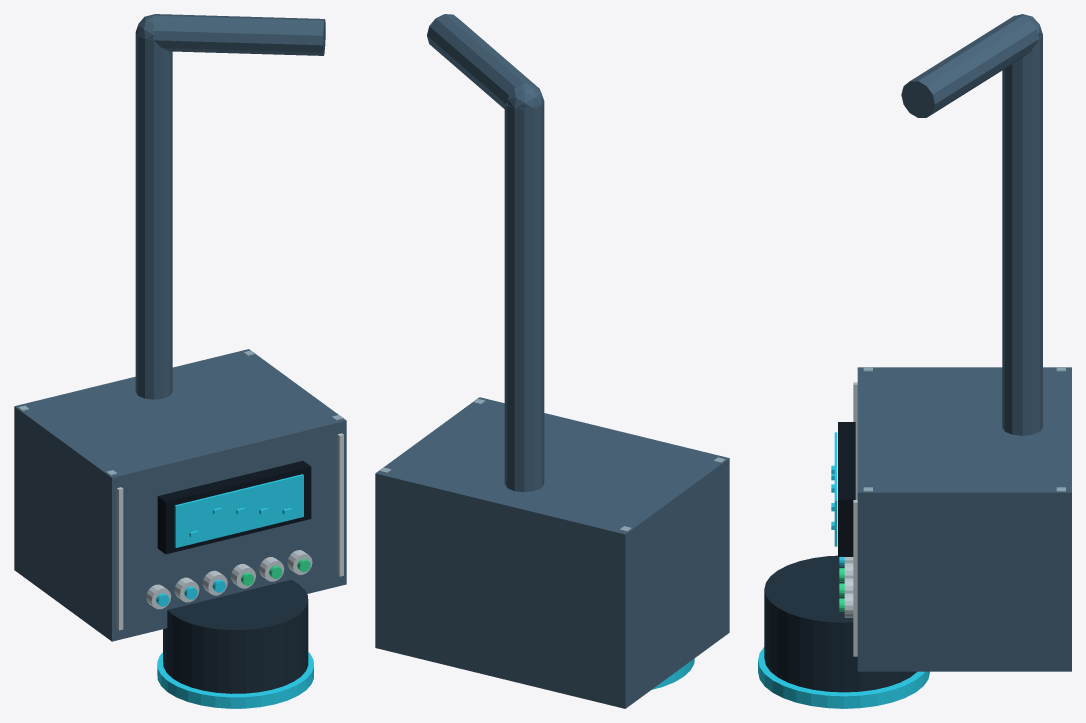
Rendered from 27_L79_FiducialOpticalCameraA.fbx.
3 views of the same model, side by side, from view 1: azimuth 30°, elevation 25°; view 2: azimuth 150°, elevation 25°; view 3: azimuth 270°, elevation 25° (orthographic). The views are drawn at different scales.
Visible parts, largest first — view 1: FiducialOpticalCameraA; view 2: FiducialOpticalCameraA; view 3: FiducialOpticalCameraA.
Boxes of the visible parts, left/top/right/bottom form: FiducialOpticalCameraA: left=14, top=14, right=346, bottom=708; FiducialOpticalCameraA: left=375, top=14, right=729, bottom=708; FiducialOpticalCameraA: left=758, top=14, right=1071, bottom=708.
Size of the model in its own units: 115 by 270 by 114.
